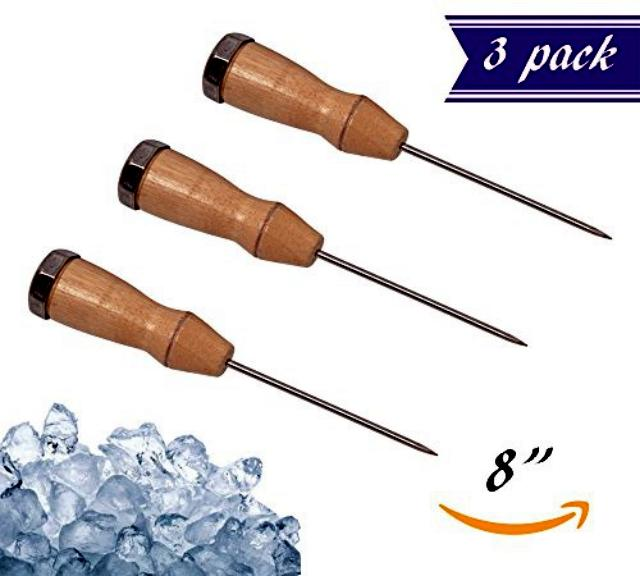ice pick: (26, 248, 438, 457), (118, 138, 528, 348), (202, 31, 610, 239)
